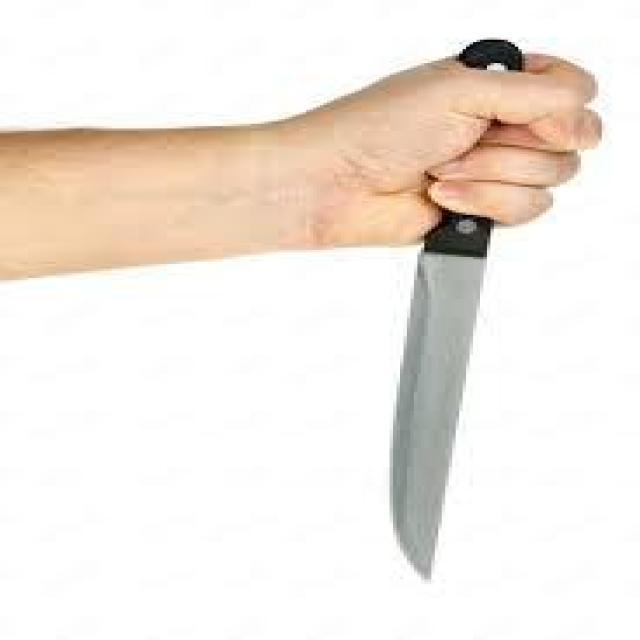faca: (313, 31, 623, 594)
